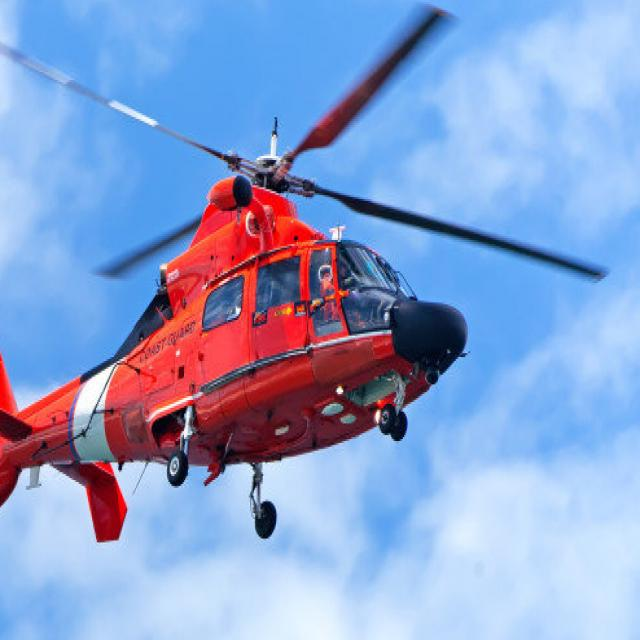helicopter: (1, 7, 611, 543)
